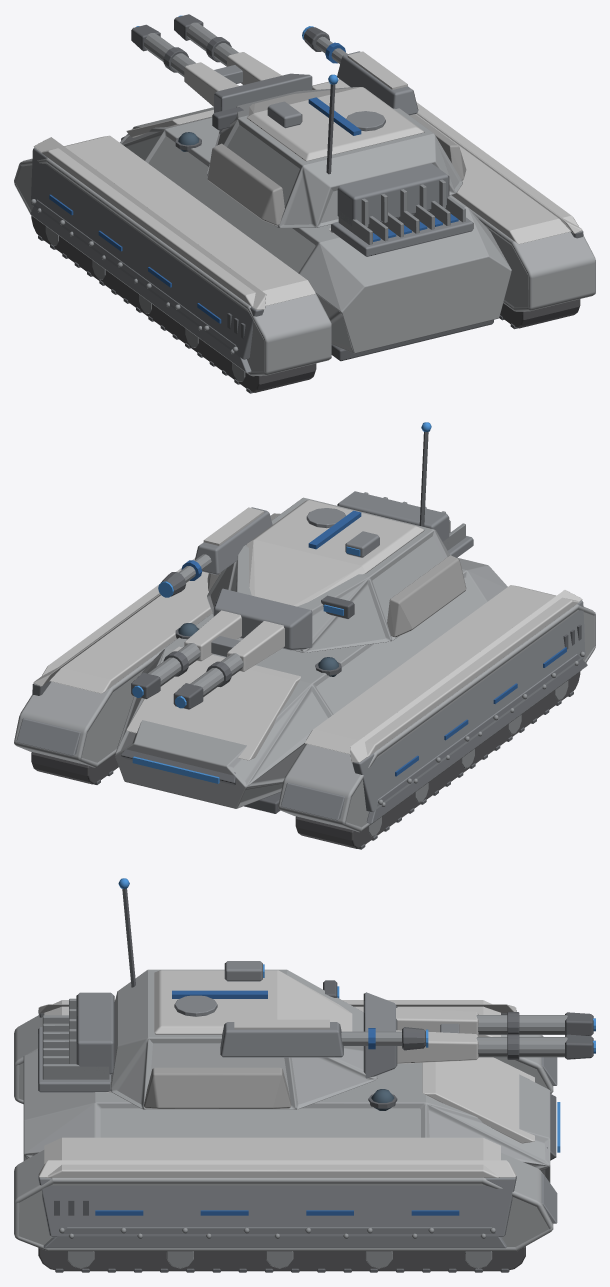
File: lattice_heavy_assault.glb
3 views of the same model, one above another, from view 1: azimuth 30°, elevation 25°; view 2: azimuth 150°, elevation 25°; view 3: azimuth 270°, elevation 25° (orthographic). The views are drawn at different scales.
Visible parts, largest first — view 1: Body, Turret; view 2: Body, Turret; view 3: Body, Turret.
Boxes of the visible parts, x1,y1,x2,y2 form: Body: (14, 79, 595, 393); Turret: (131, 14, 466, 227); Body: (14, 520, 595, 849); Turret: (131, 422, 466, 709); Body: (14, 1000, 560, 1272); Turret: (69, 878, 595, 1109).
Bounding box in the file's own units: 1.81 × 1.32 × 2.43.
